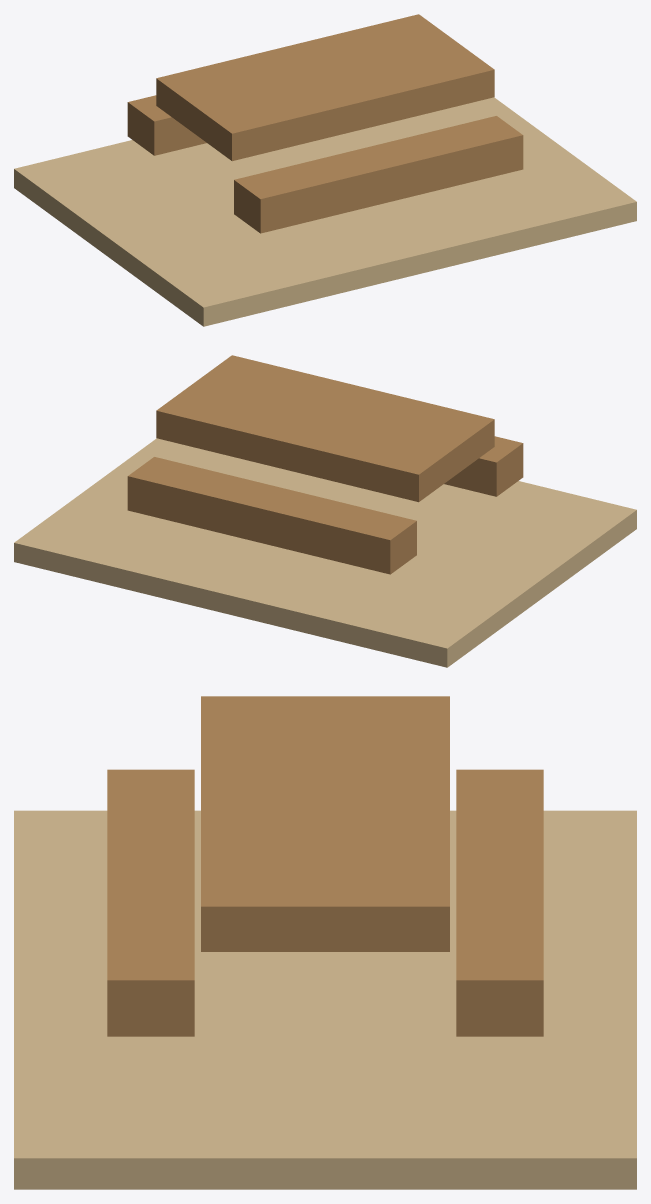
Rendered from picnic-area.source.glb.
The picture shows the model from 3 angles, top to bottom: view 1: azimuth 30°, elevation 25°; view 2: azimuth 150°, elevation 25°; view 3: azimuth 270°, elevation 25°; orthographic projection. The views are drawn at different scales.
Visible parts, largest first — view 1: picnic-area-pad-mesh, picnic-area-table-mesh, picnic-area-bench-0.7-mesh, picnic-area-bench--0.7-mesh; view 2: picnic-area-pad-mesh, picnic-area-table-mesh, picnic-area-bench--0.7-mesh, picnic-area-bench-0.7-mesh; view 3: picnic-area-pad-mesh, picnic-area-table-mesh, picnic-area-bench--0.7-mesh, picnic-area-bench-0.7-mesh.
Boxes of the visible parts, x1=… form: picnic-area-pad-mesh: x1=14, y1=97, x2=636, y2=326; picnic-area-table-mesh: x1=156, y1=14, x2=494, y2=161; picnic-area-bench-0.7-mesh: x1=234, y1=116, x2=523, y2=233; picnic-area-bench--0.7-mesh: x1=127, y1=95, x2=206, y2=155; picnic-area-pad-mesh: x1=14, y1=438, x2=636, y2=667; picnic-area-table-mesh: x1=156, y1=355, x2=494, y2=502; picnic-area-bench--0.7-mesh: x1=127, y1=457, x2=416, y2=574; picnic-area-bench-0.7-mesh: x1=444, y1=436, x2=523, y2=496; picnic-area-pad-mesh: x1=14, y1=810, x2=636, y2=1189; picnic-area-table-mesh: x1=201, y1=696, x2=449, y2=951; picnic-area-bench--0.7-mesh: x1=456, y1=769, x2=543, y2=1036; picnic-area-bench-0.7-mesh: x1=107, y1=769, x2=194, y2=1036.
Bounding box in the file's own units: 3.3 × 0.95 × 2.5.
